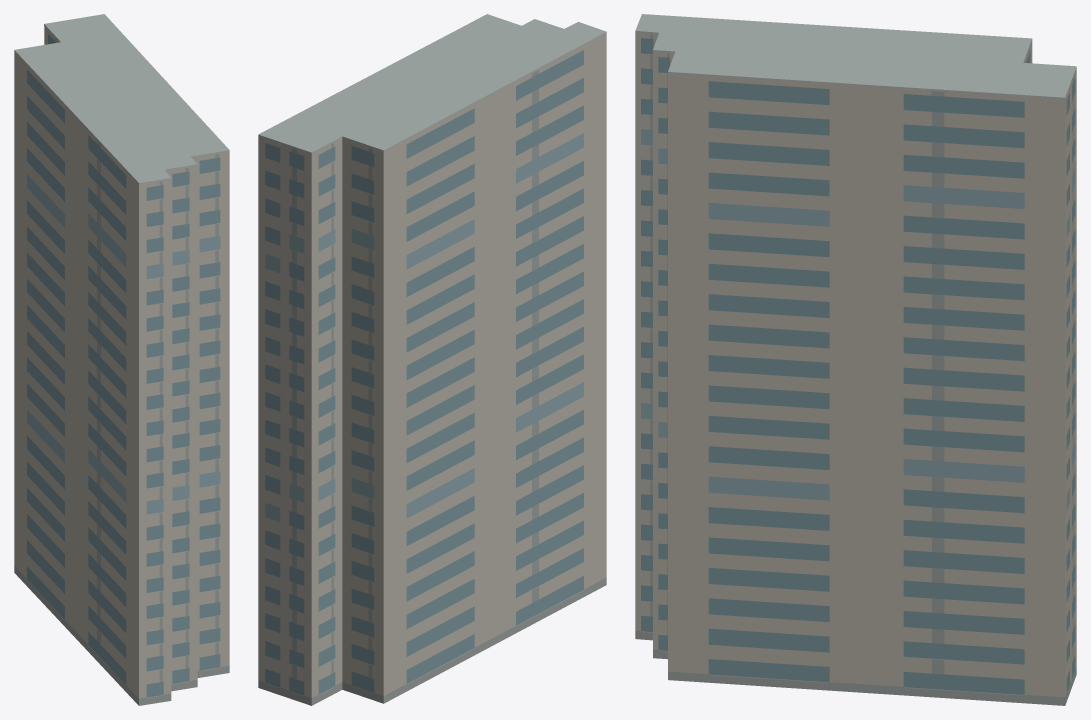
File: residential-f47269b7-9751-4fda-90c8-1c7a5b51b33a.glb
3 renders of one model, left to right at view 1: azimuth 30°, elevation 25°; view 2: azimuth 150°, elevation 25°; view 3: azimuth 270°, elevation 25°, orthographic. The views are drawn at different scales.
Visible parts, largest first — view 1: residential-f47269b7-9751-4fda-90c8-1c7a5b51b33a.tmp; view 2: residential-f47269b7-9751-4fda-90c8-1c7a5b51b33a.tmp; view 3: residential-f47269b7-9751-4fda-90c8-1c7a5b51b33a.tmp.
Boxes of the visible parts, x1,y1,x2,y2 form: residential-f47269b7-9751-4fda-90c8-1c7a5b51b33a.tmp: (14,14,229,705); residential-f47269b7-9751-4fda-90c8-1c7a5b51b33a.tmp: (258,14,606,705); residential-f47269b7-9751-4fda-90c8-1c7a5b51b33a.tmp: (635,14,1076,705).
Size of the model in its own units: 19.19 by 65 by 42.76.
